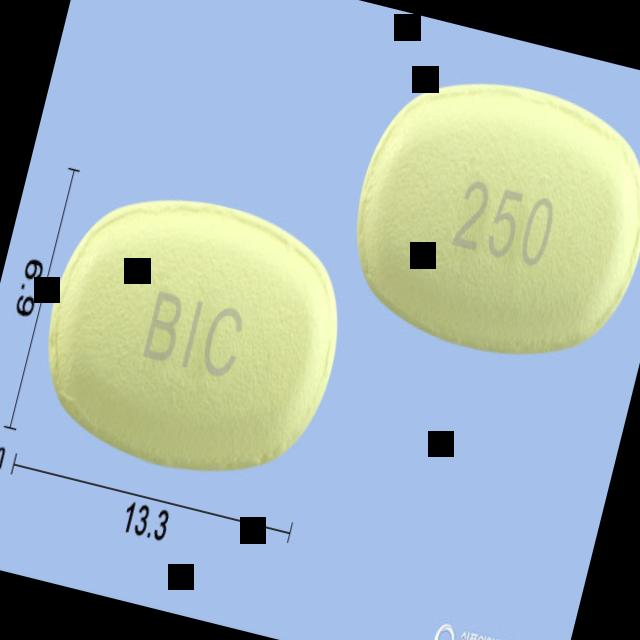Cefixime Cap- Etex: (21, 167, 364, 498), (331, 53, 640, 382)
